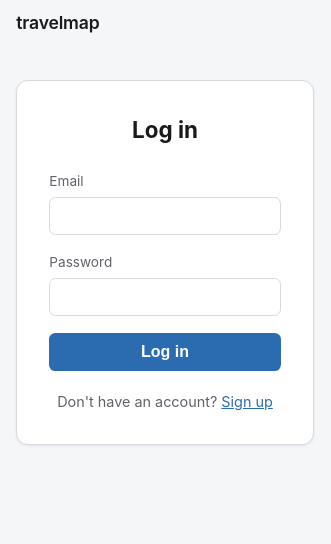
Test case: swaps the page in place when a link between two of them is followed
Click the link "Sign up" at (247, 401), box [221,392,273,410]
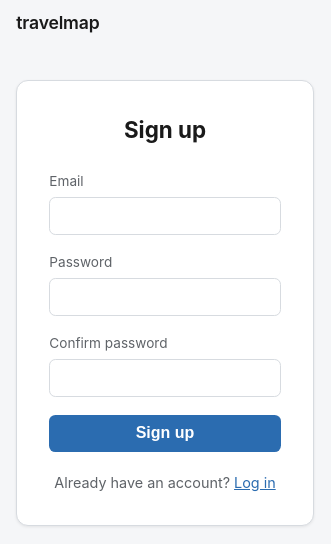
expect the heading "Sign up" is shown: met, box [124,116,206,143]
